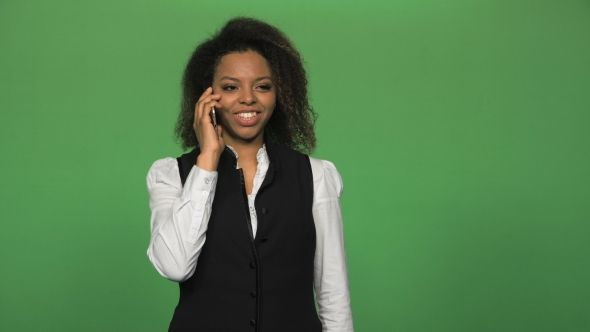phone: (193, 85, 225, 147)
talk: (188, 70, 280, 160)
